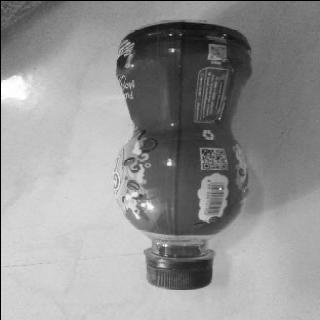plastic_bottles: (110, 19, 254, 291)
